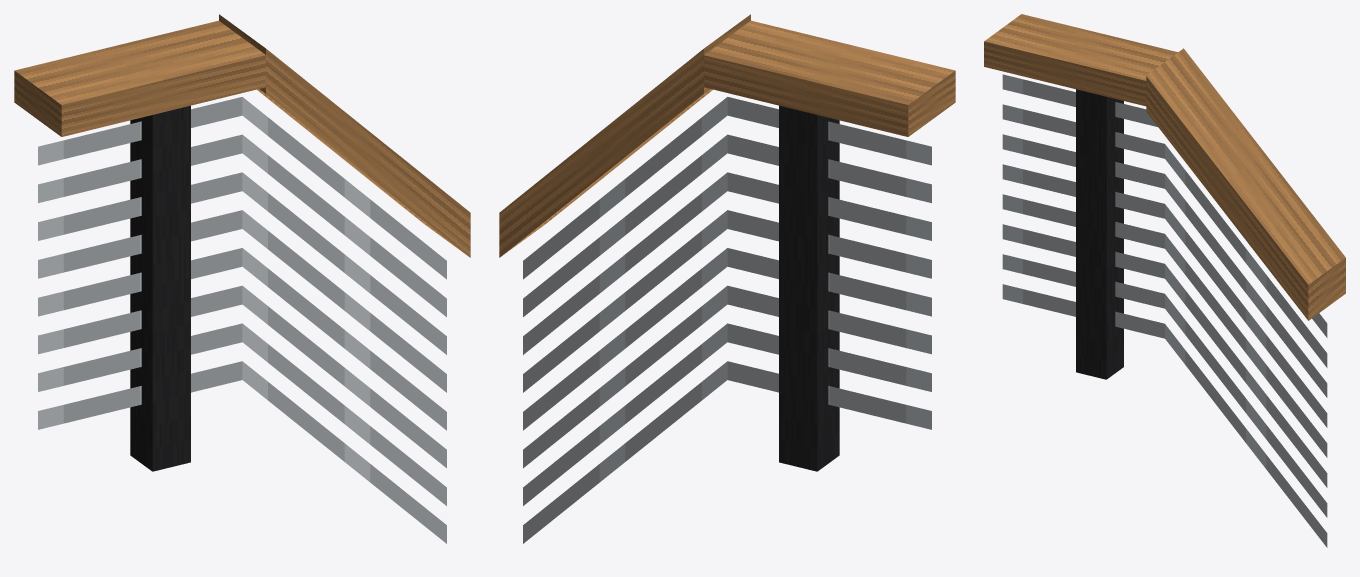
The model's file is top_neg.obj.
The picture shows the model from 3 angles, left to right: view 1: azimuth 30°, elevation 25°; view 2: azimuth 150°, elevation 25°; view 3: azimuth 330°, elevation 25°; orthographic projection. The views are drawn at different scales.
Parts seen in each view (by area): view 1: railing_cable_black_oak_top_neg; view 2: railing_cable_black_oak_top_neg; view 3: railing_cable_black_oak_top_neg.
Part boxes in pixels (x1,y1,x2,y2): railing_cable_black_oak_top_neg: [14, 14, 470, 543]; railing_cable_black_oak_top_neg: [499, 14, 955, 543]; railing_cable_black_oak_top_neg: [984, 14, 1345, 547].
Size of the model in its own units: 1 by 1.36 by 0.2.
